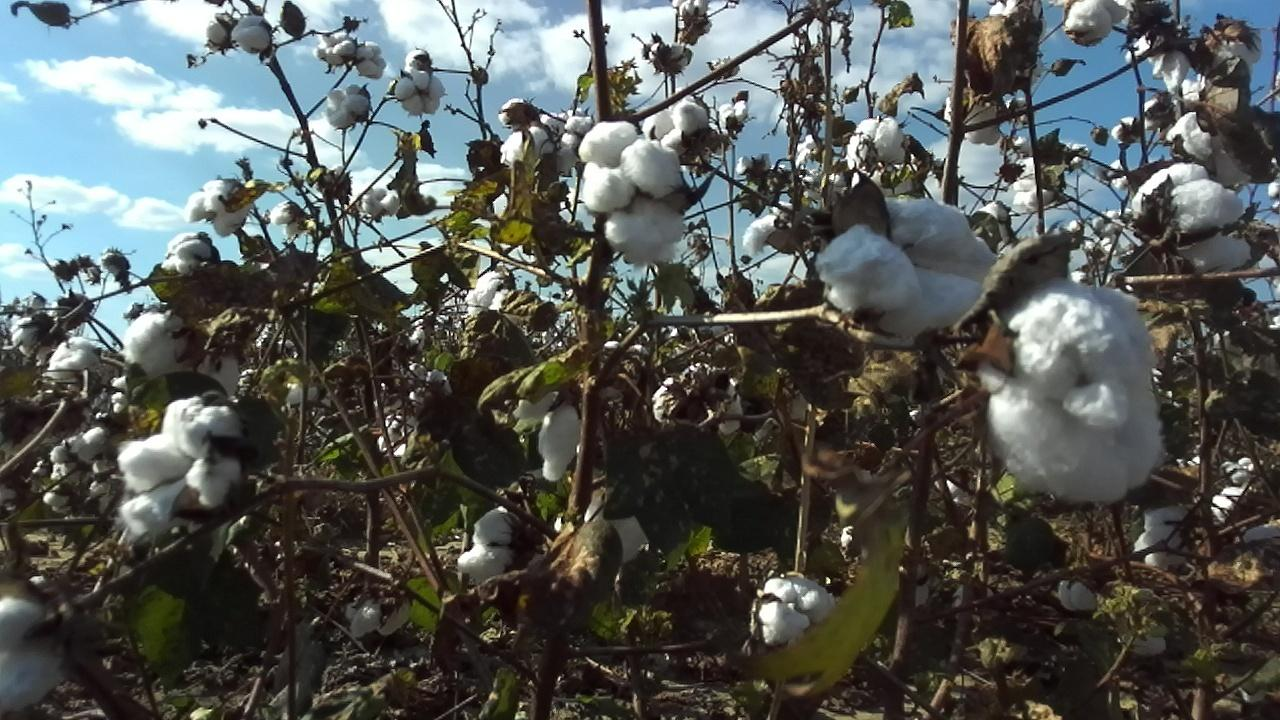cotton_ready: (980, 286, 1165, 507), (817, 195, 1005, 342), (117, 394, 247, 541), (577, 122, 692, 265), (1133, 167, 1252, 275), (125, 310, 244, 394), (0, 594, 70, 708), (513, 369, 584, 480), (1165, 110, 1270, 185), (457, 507, 552, 579), (557, 491, 650, 562), (652, 369, 747, 435), (500, 111, 591, 175), (757, 575, 837, 646), (1134, 499, 1199, 574), (184, 179, 254, 238), (641, 99, 705, 153), (348, 585, 419, 632), (846, 115, 907, 169), (944, 90, 1005, 144), (1062, 0, 1127, 44), (160, 230, 219, 277)
